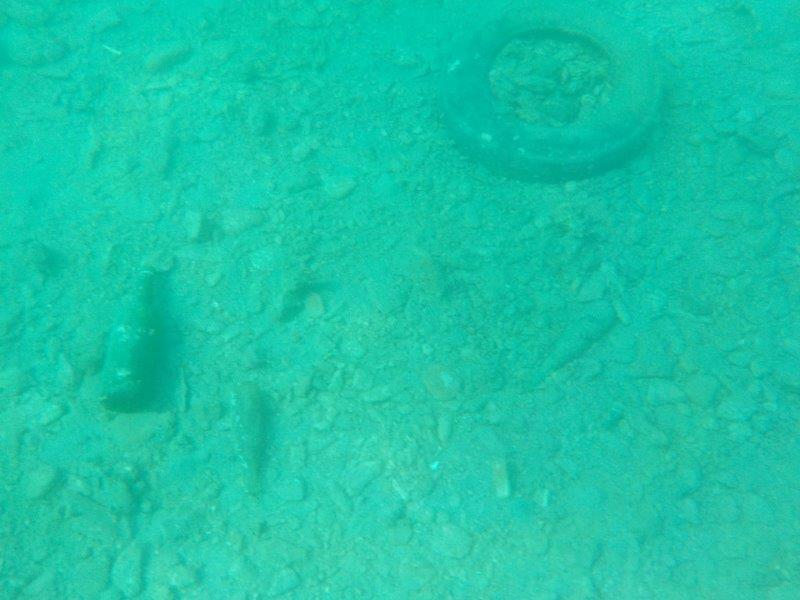bottle: (86, 255, 173, 420), (531, 295, 622, 389), (224, 368, 275, 506)
tire: (419, 1, 671, 187)
